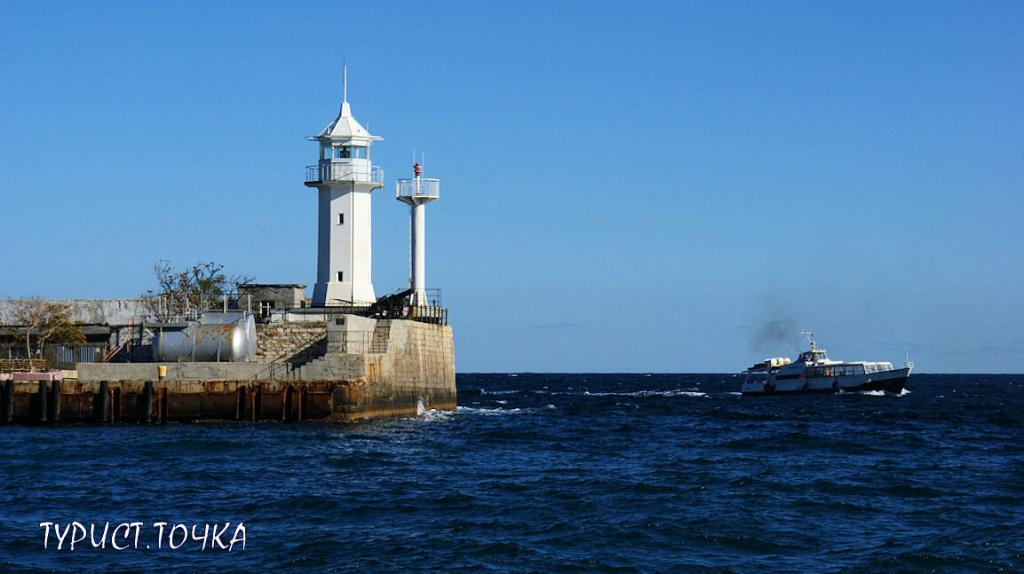PassengerShip: (738, 344, 928, 400)
